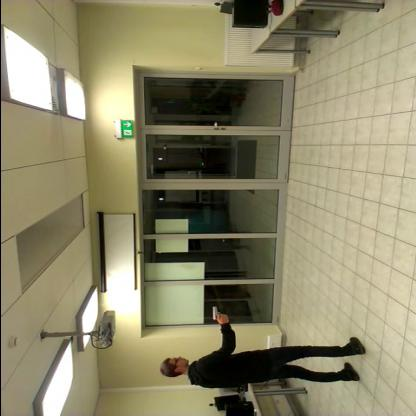Pistol: (205, 300, 233, 324)
